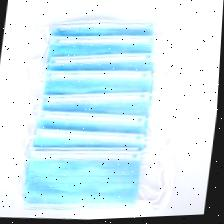mask: (0, 144, 191, 224), (2, 109, 200, 149), (0, 131, 198, 165), (15, 70, 191, 108), (9, 92, 194, 128), (18, 52, 194, 87), (28, 32, 190, 68), (34, 12, 183, 47)
